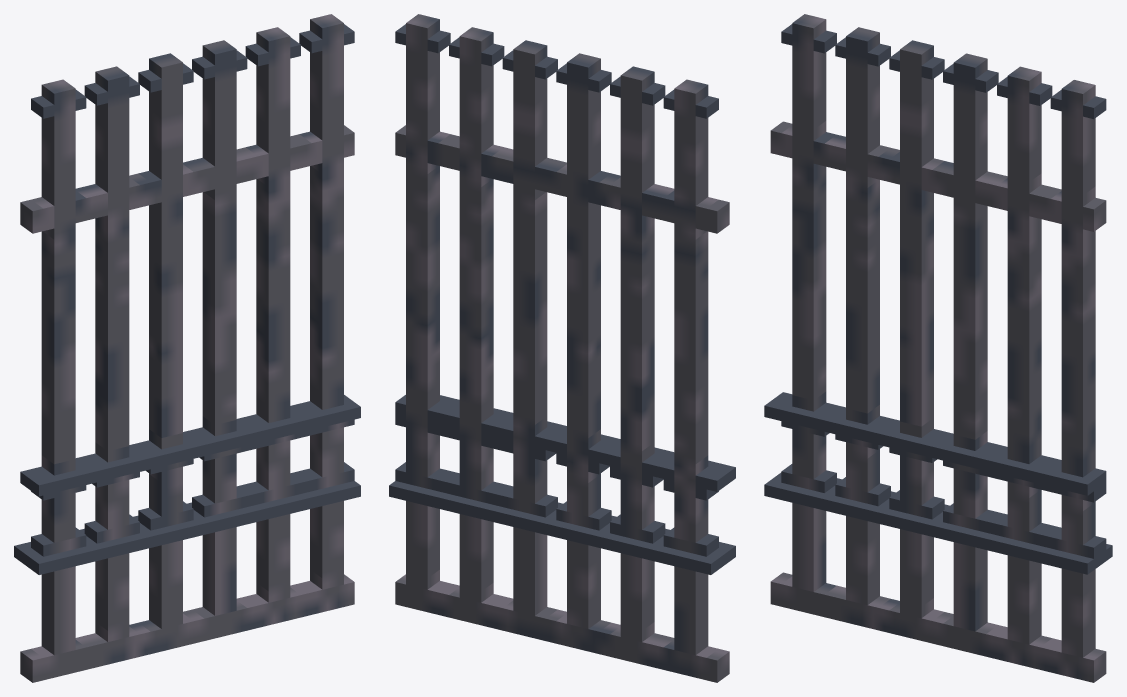
The model's file is FenceModule-10.fbx.
The picture shows the model from 3 angles, left to right: view 1: azimuth 30°, elevation 25°; view 2: azimuth 150°, elevation 25°; view 3: azimuth 330°, elevation 25°; orthographic projection.
Visible parts, largest first — view 1: FenceModule-10; view 2: FenceModule-10; view 3: FenceModule-10.
Part boxes in pixels (<box>): FenceModule-10: <box>14,14,360,682</box>; FenceModule-10: <box>389,14,735,682</box>; FenceModule-10: <box>764,14,1112,682</box>.
Size of the model in its own units: 150 by 260 by 20.
